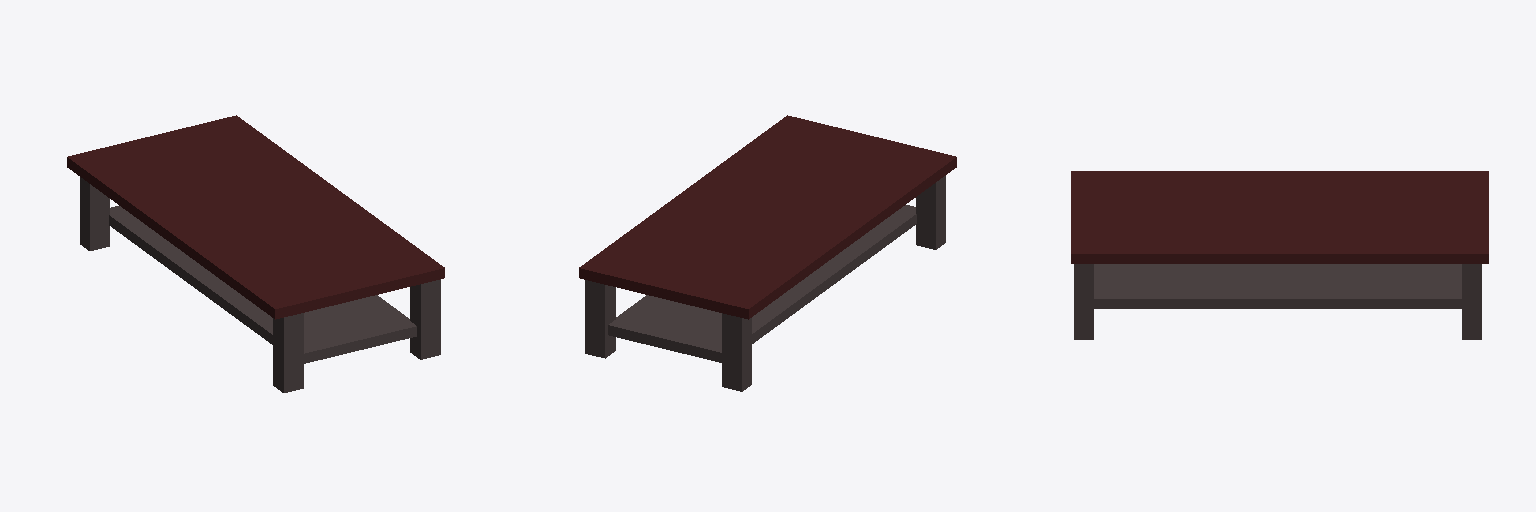
The model's file is CoffeeTable.obj.
3 views of the same model, side by side, from view 1: azimuth 30°, elevation 25°; view 2: azimuth 150°, elevation 25°; view 3: azimuth 270°, elevation 25° (orthographic).
Parts seen in each view (by area): view 1: CoffeeTable; view 2: CoffeeTable; view 3: CoffeeTable.
Part boxes in pixels (left/top/right/bottom): CoffeeTable: left=67, top=115, right=444, bottom=392; CoffeeTable: left=579, top=115, right=956, bottom=391; CoffeeTable: left=1071, top=171, right=1488, bottom=339.
Bounding box in the file's own units: 1.2 × 0.5887 × 2.55.